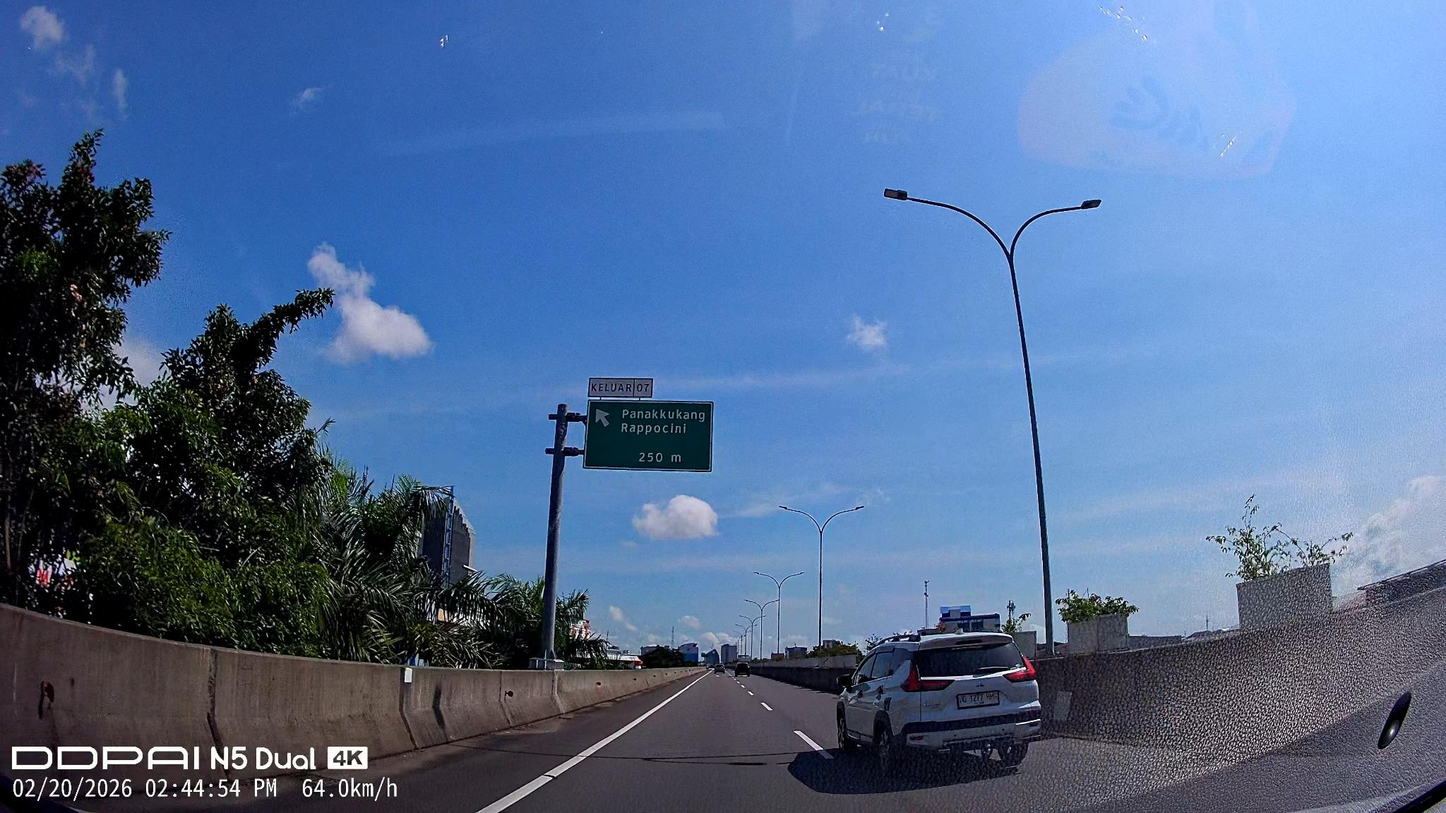rambu_teks: (583, 400, 713, 472)
